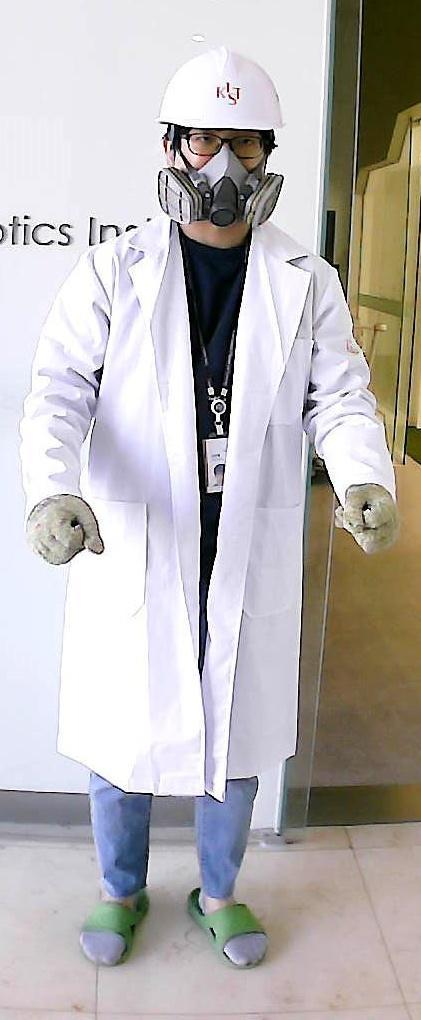lab_coat: (93, 256, 324, 777)
